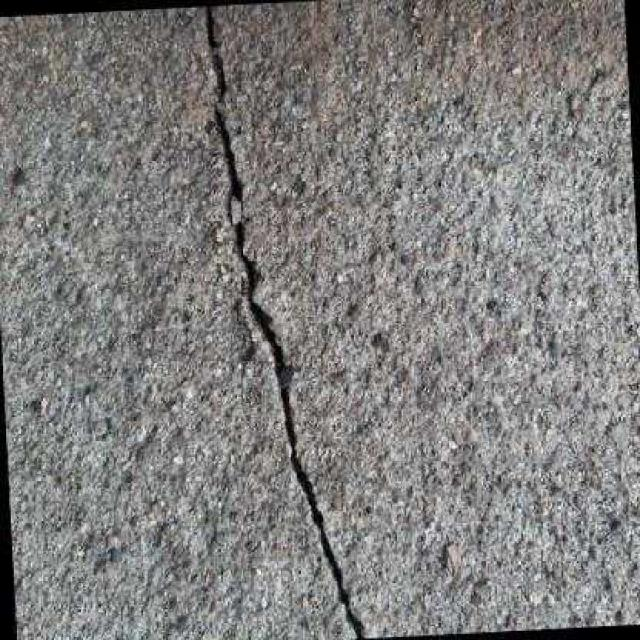D00: (205, 8, 362, 638)
